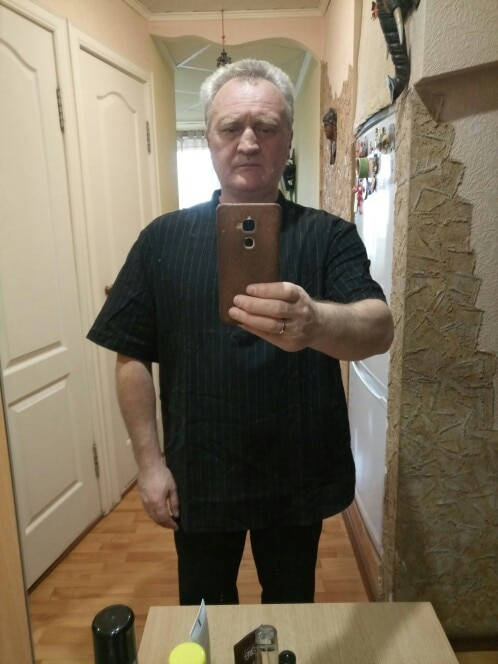shirts: (90, 192, 376, 520)
